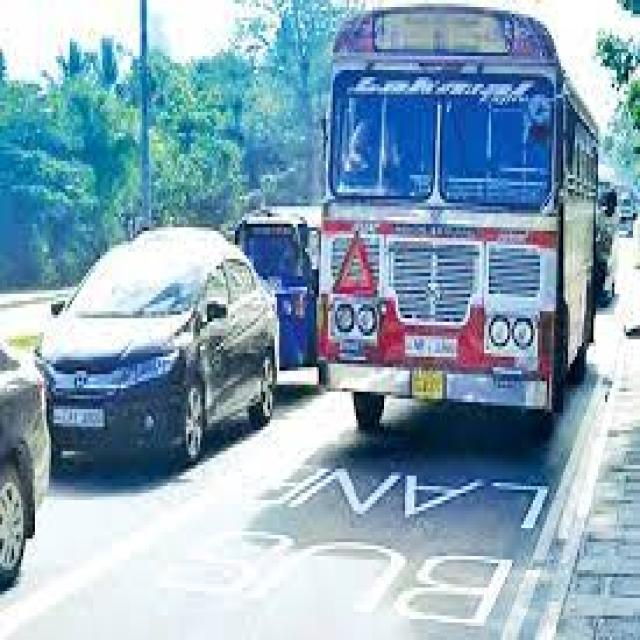bus: (319, 7, 596, 430)
car: (37, 227, 272, 465), (0, 346, 49, 591)
person: (595, 185, 612, 308)
three wheeler: (235, 206, 317, 367)
